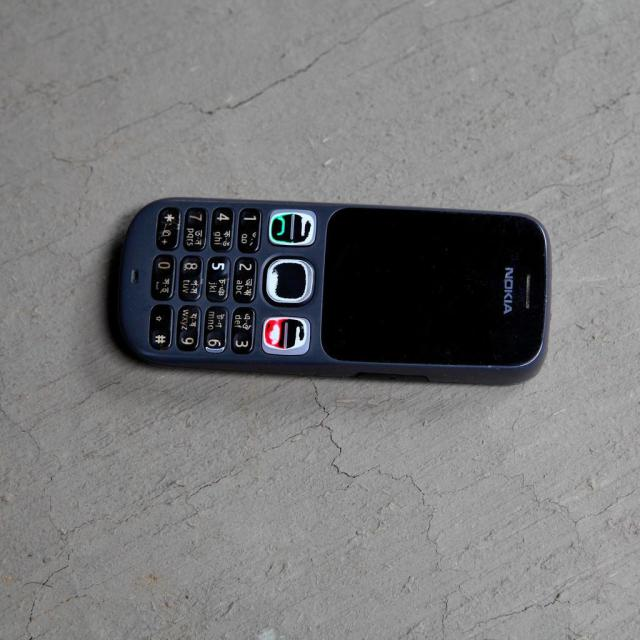Phone: (92, 192, 552, 384)
